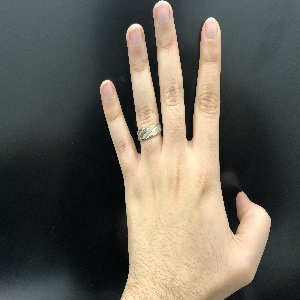hand: (100, 2, 270, 287)
